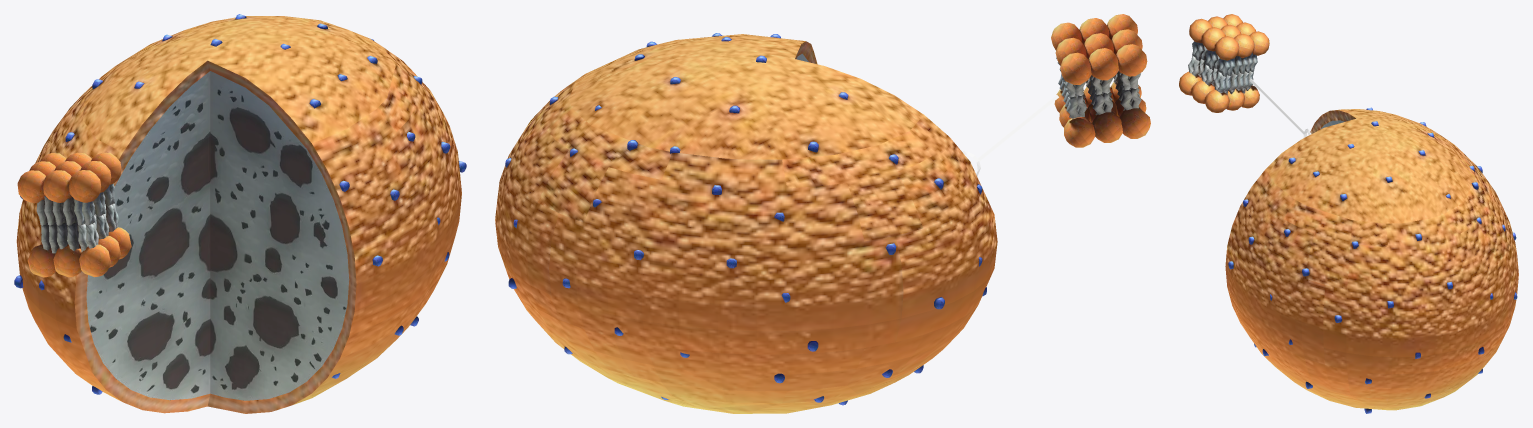
Rendered from modelo-ligero.glb.
3 views of the same model, side by side, from view 1: azimuth 30°, elevation 25°; view 2: azimuth 150°, elevation 25°; view 3: azimuth 270°, elevation 25° (orthographic). The views are drawn at different scales.
Visible parts, largest first — view 1: Object_6, Object_7, Object_10, Object_9, Object_8; view 2: Object_6, Object_10, Object_8, Object_9; view 3: Object_6, Object_10, Object_9, Object_8, Object_11.
Boxes of the visible parts, x1,y1,x2,y2 form: Object_6: (16, 16, 461, 413); Object_7: (86, 71, 349, 400); Object_10: (17, 152, 131, 277); Object_9: (36, 183, 118, 253); Object_8: (14, 14, 466, 394); Object_6: (495, 34, 997, 413); Object_10: (1051, 14, 1150, 147); Object_8: (505, 33, 986, 405); Object_9: (1056, 57, 1141, 118); Object_6: (1225, 109, 1518, 410); Object_10: (1179, 14, 1269, 112); Object_9: (1188, 41, 1257, 94); Object_8: (1228, 107, 1517, 413); Object_11: (1249, 78, 1311, 137).
Bounding box in the file's own units: 2.35 × 1.57 × 1.77.
6 materials, 5 textured.
